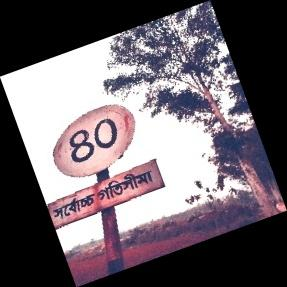Speed-limit: (47, 100, 164, 220)
